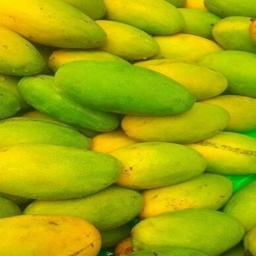Mango Fresh: (55, 48, 195, 126), (2, 133, 130, 207), (112, 197, 256, 256), (105, 128, 213, 195), (1, 1, 115, 53)
